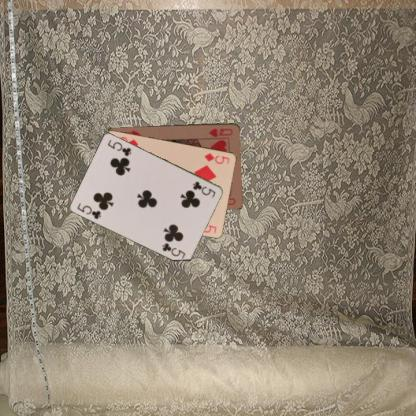5c: (190, 178, 217, 198), (75, 201, 102, 220)
5d: (202, 150, 231, 165)
Qh: (206, 125, 234, 138)
